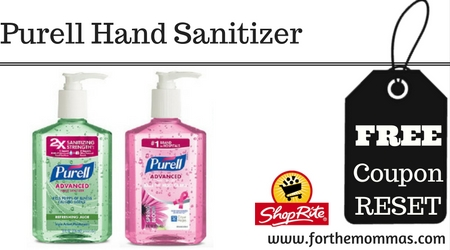Sanitizer: (120, 69, 215, 249), (27, 69, 118, 246)
